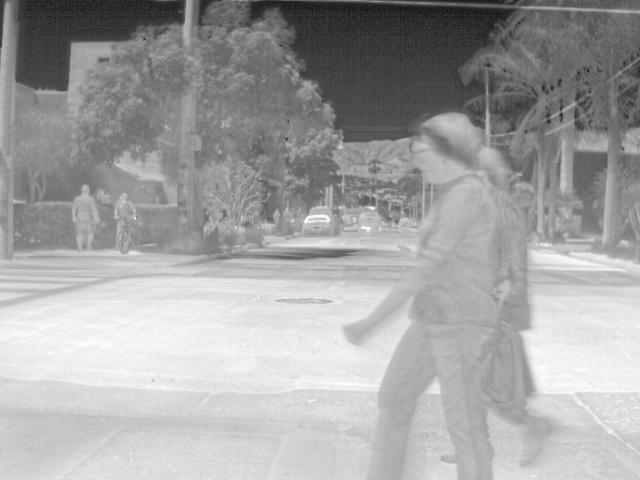car: (301, 214, 333, 238), (357, 210, 384, 232), (310, 204, 337, 220)
person: (336, 107, 497, 479), (477, 145, 560, 464), (70, 182, 103, 251), (110, 192, 136, 247), (273, 206, 282, 227)
